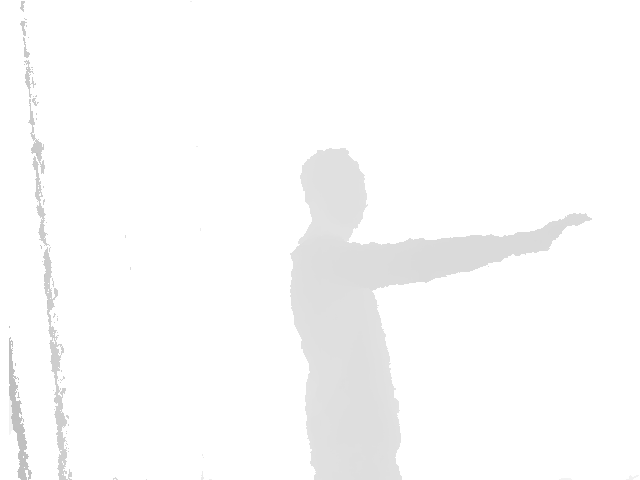head: (300, 148, 368, 232)
person: (289, 148, 595, 480)
